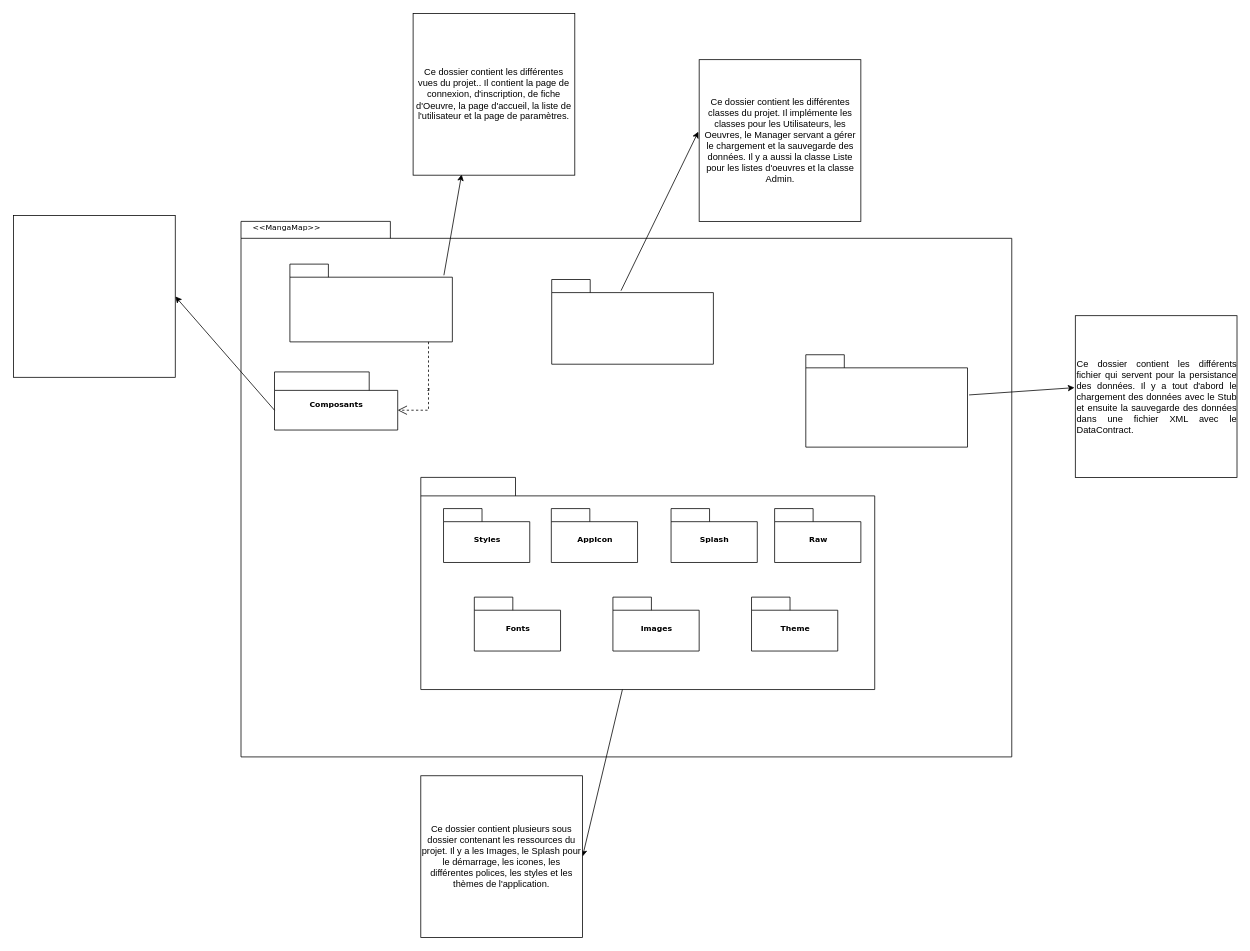
Image size: 1250x951. Some labels were removed from this diagram. Each missing label, with the centre of its shape:
"Ce sous dossier contient les UserControl pour les vues." goes at point 94,296.
"Model" goes at point 632,321.
"Stub" goes at point 886,400.
"Views" goes at point 370,302.
